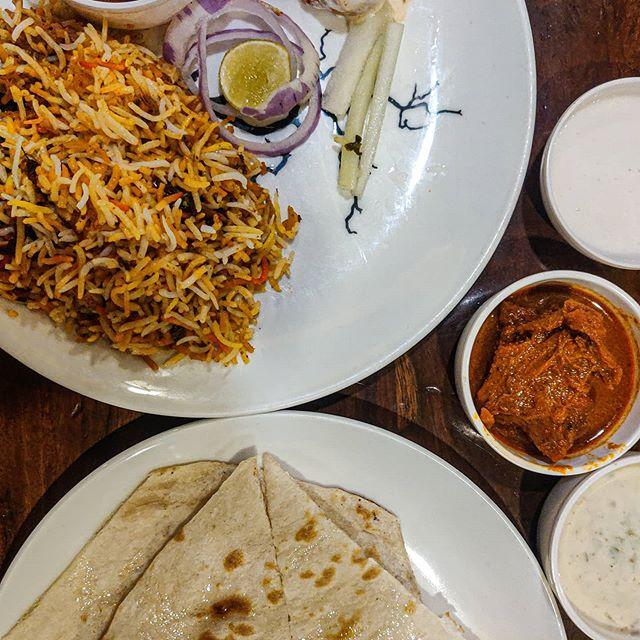Biryani: (4, 20, 286, 368)
Roti: (6, 449, 467, 640)
